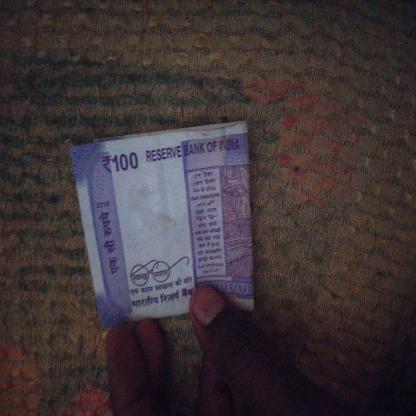New100Back: (82, 126, 255, 314)
